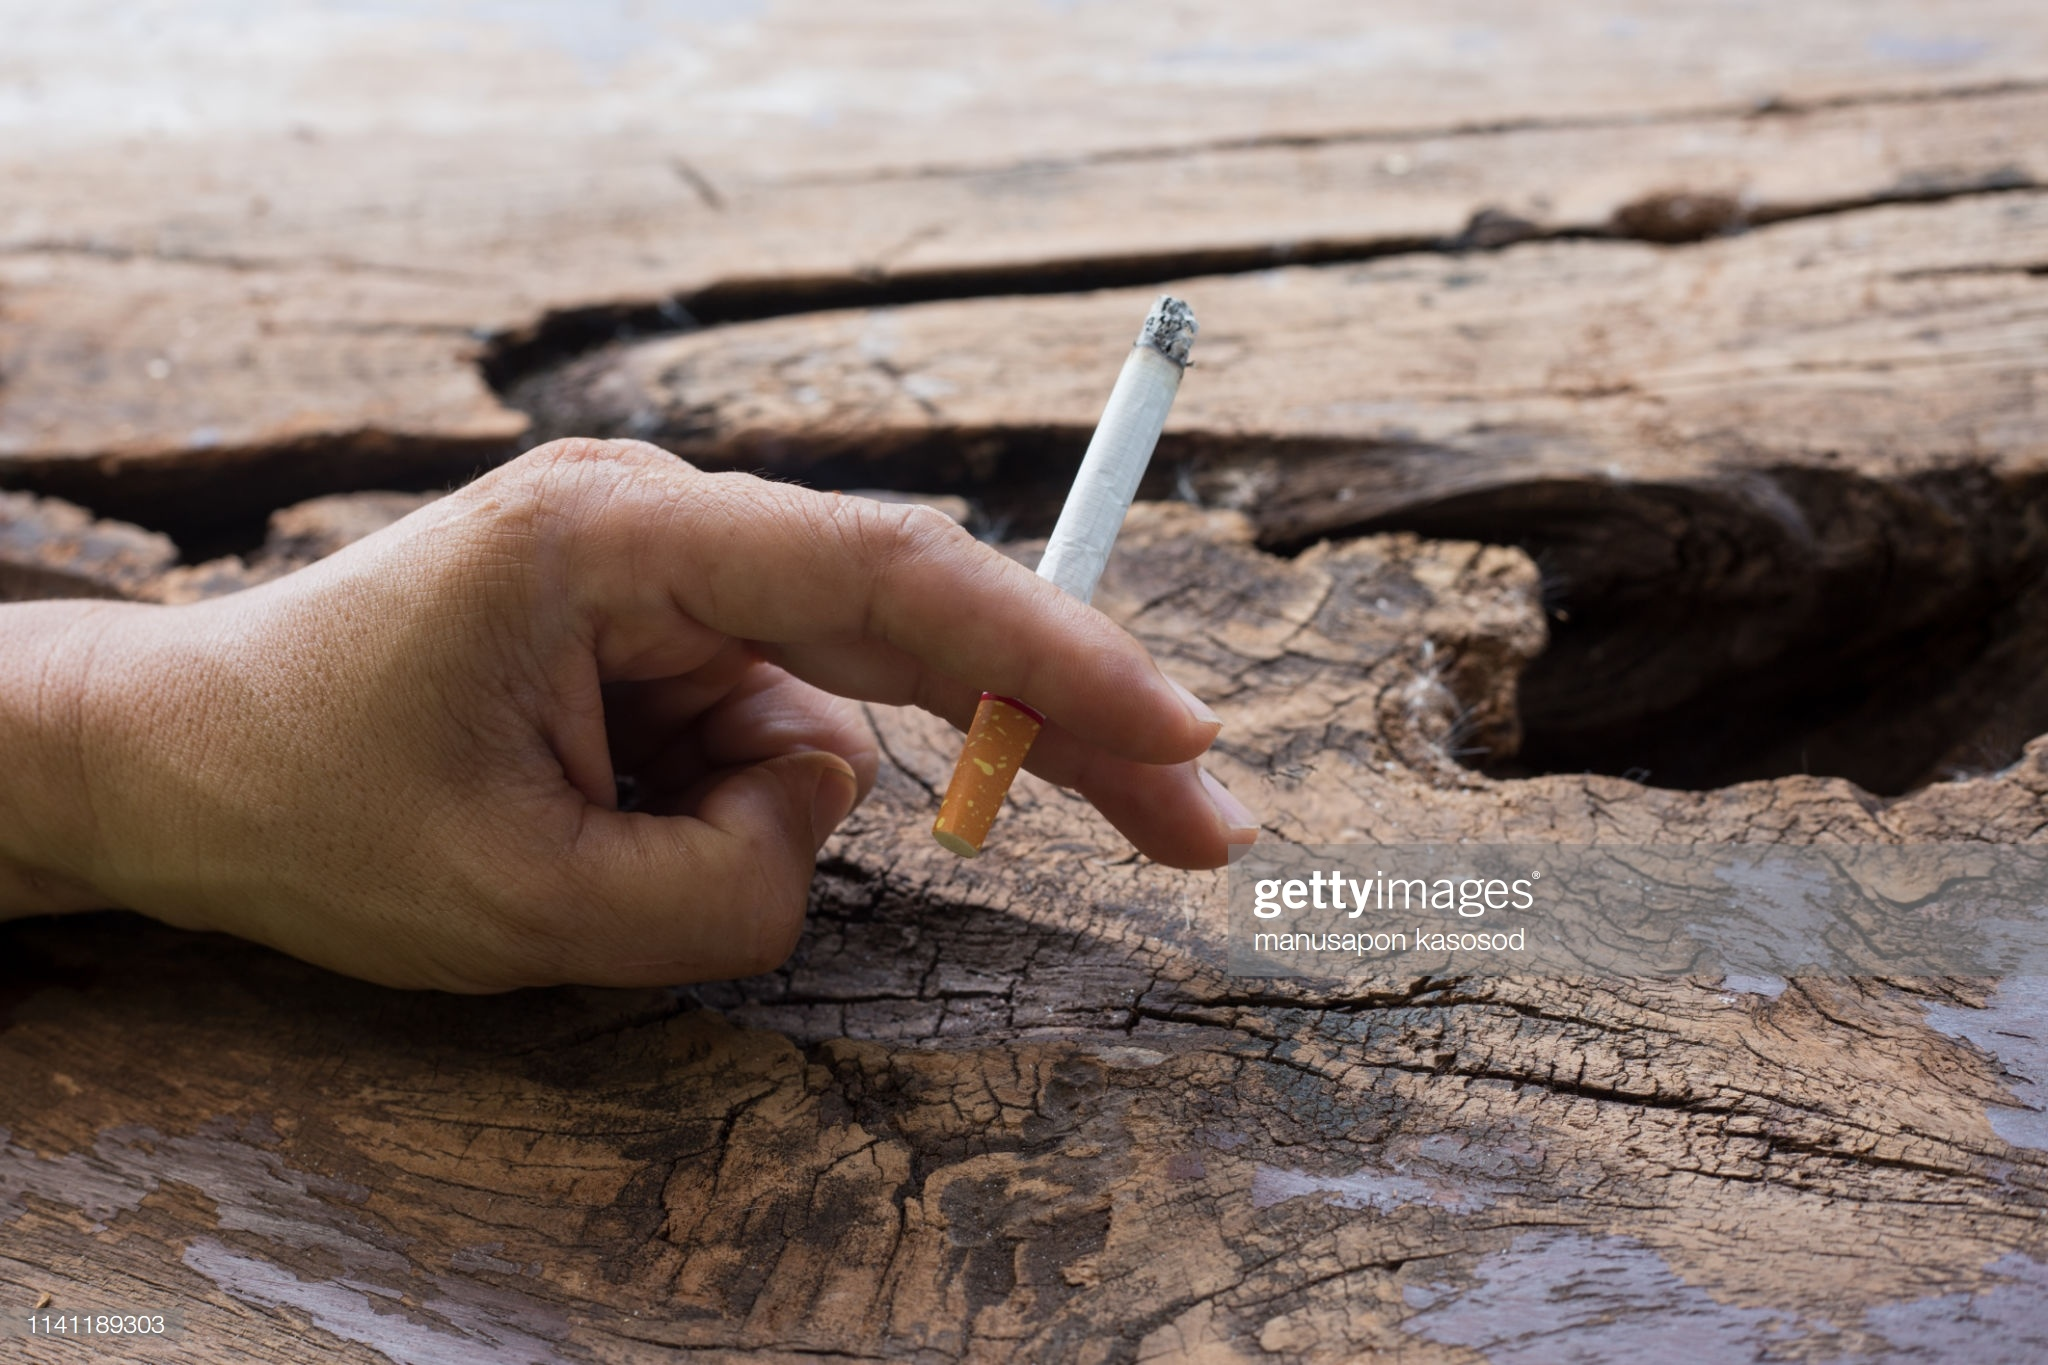sigaretta: (939, 270, 1220, 867)
